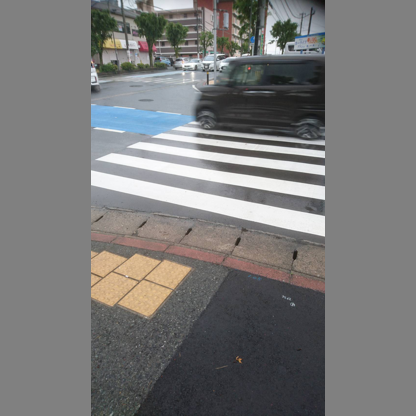brailleblock: (90, 274, 149, 314), (148, 263, 189, 288), (91, 249, 119, 280), (115, 256, 149, 277)
crosswalk: (90, 134, 324, 238)
